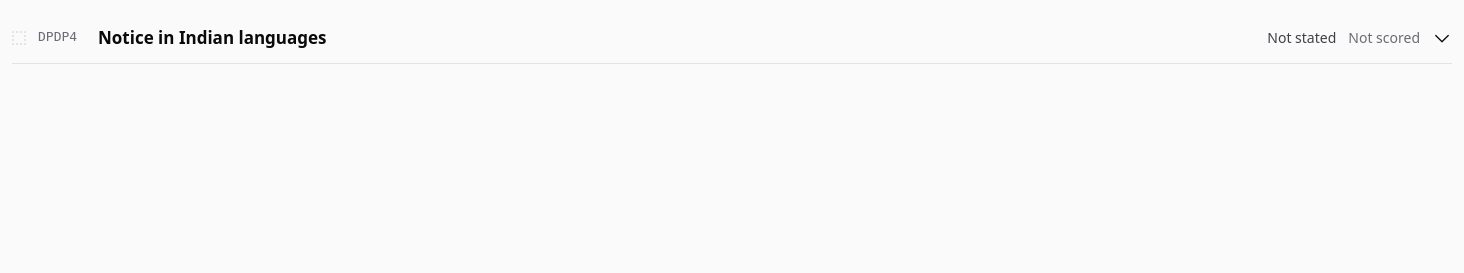
Test: FlagRow › says an informational flag is not part of either score
Step 1. Click the button → click(52, 49), box [12,12,1452,63]
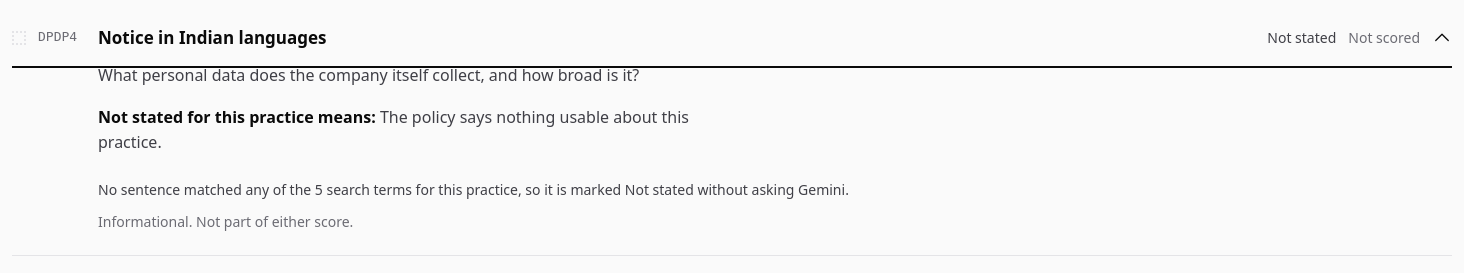
Expected: the text "Informational. Not part of either score." is shown, [98,212,353,231]
